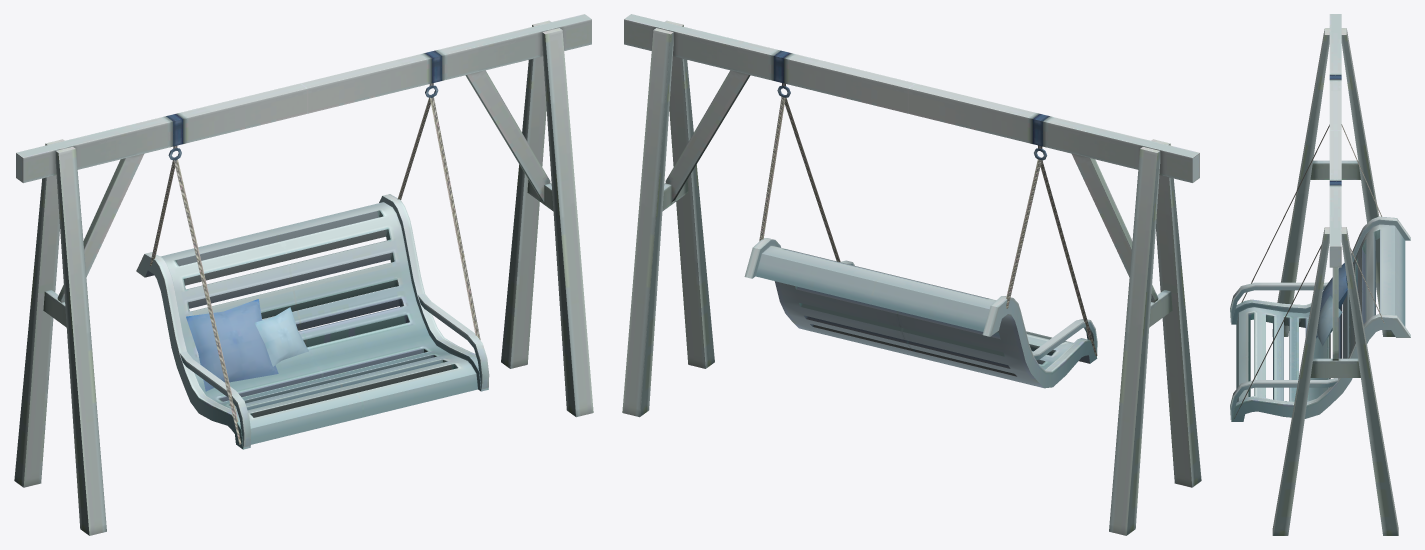
Rendered from Goidalka2.fbx.
3 views of the same model, side by side, from view 1: azimuth 30°, elevation 25°; view 2: azimuth 150°, elevation 25°; view 3: azimuth 270°, elevation 25° (orthographic). The views are drawn at different scales.
Visible parts, largest first — view 1: Combined_Mesh__root__scene__2_7; view 2: Combined_Mesh__root__scene__2_7; view 3: Combined_Mesh__root__scene__2_7.
Boxes of the visible parts, bbox=[...] form: Combined_Mesh__root__scene__2_7: bbox=[14, 14, 593, 535]; Combined_Mesh__root__scene__2_7: bbox=[622, 14, 1201, 535]; Combined_Mesh__root__scene__2_7: bbox=[1230, 14, 1410, 535].
Bounding box in the file's own units: 5.38 × 3.26 × 1.77.
1 material, 1 textured.
